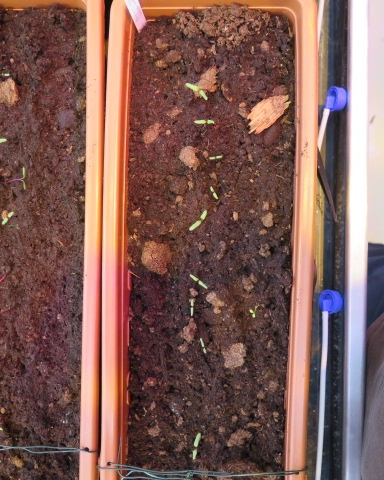crop: (187, 206, 210, 232), (183, 80, 208, 101), (188, 271, 210, 290), (190, 431, 201, 463), (209, 183, 220, 204), (193, 117, 218, 126), (198, 336, 208, 357), (206, 152, 226, 161), (188, 295, 195, 320)
